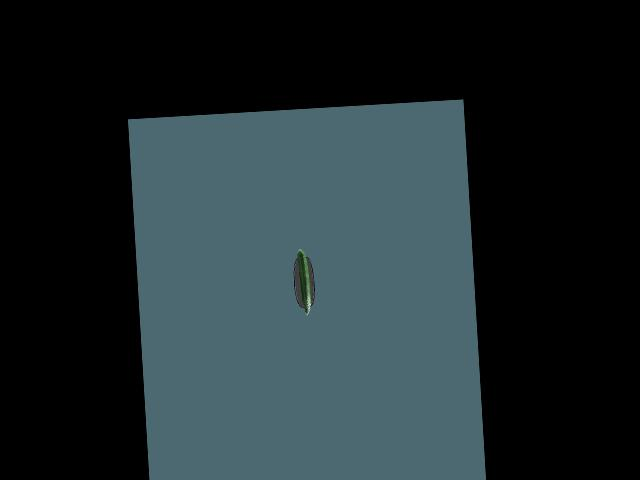cucumber: (296, 249, 311, 316)
